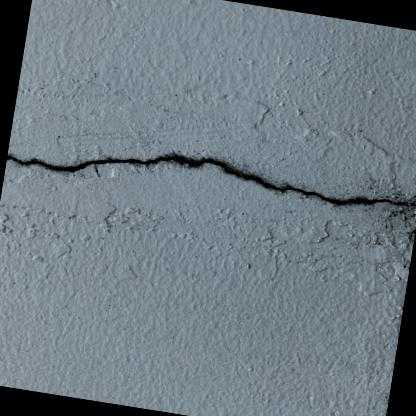crack: (5, 156, 413, 206)
